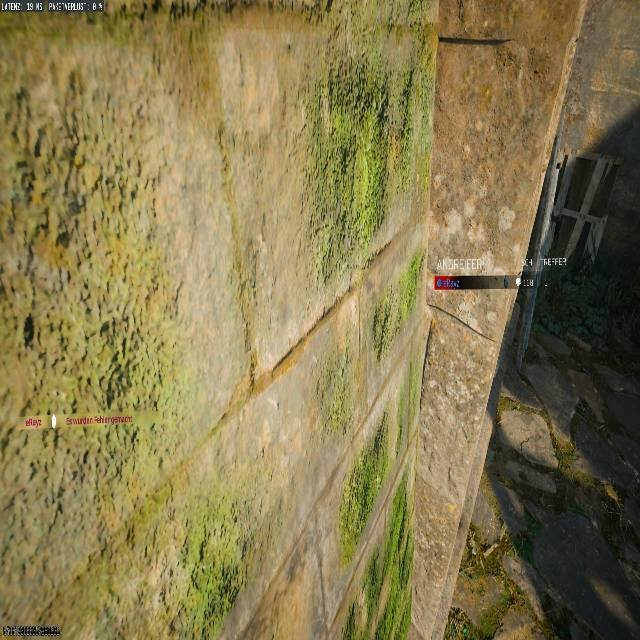player: (386, 13, 639, 639)
